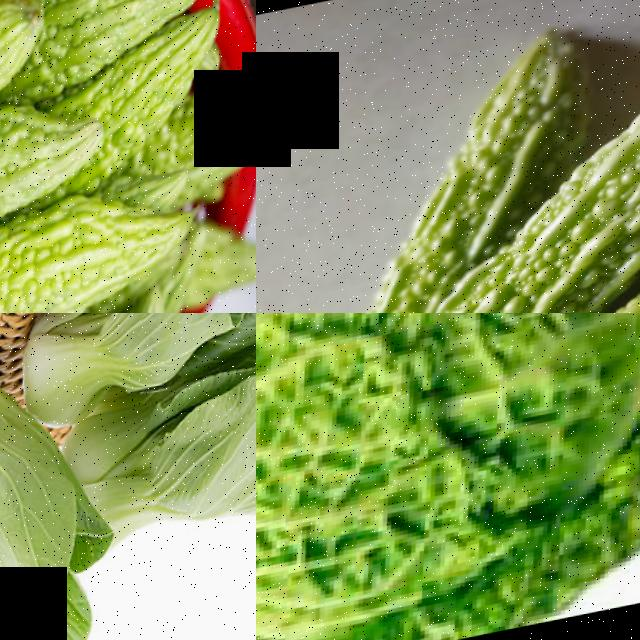bitter gourd: (421, 42, 581, 256), (0, 225, 186, 313), (98, 58, 226, 184), (51, 0, 219, 89), (593, 0, 640, 304), (0, 138, 91, 262), (0, 21, 42, 165)
bok choy: (106, 381, 256, 578), (49, 313, 256, 417), (0, 313, 54, 640)
cabbage: (256, 313, 640, 640)
